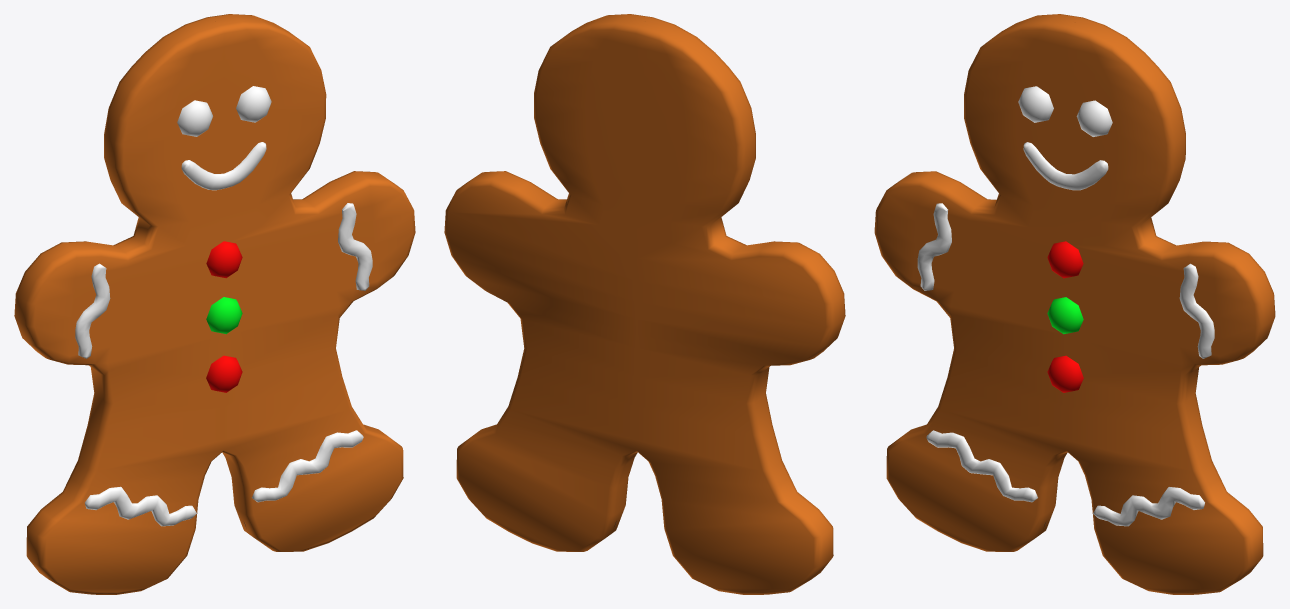
File: gingerbreadman.fbx
3 views of the same model, side by side, from view 1: azimuth 30°, elevation 25°; view 2: azimuth 150°, elevation 25°; view 3: azimuth 330°, elevation 25° (orthographic).
Parts seen in each view (by area): view 1: gingerbread man; view 2: gingerbread man; view 3: gingerbread man.
Boxes of the visible parts, <box> form: gingerbread man: <box>14,14,415,594</box>; gingerbread man: <box>444,14,845,594</box>; gingerbread man: <box>874,14,1275,594</box>.
Bounding box in the file's own units: 193 × 258 × 21.61.
Materials: 1 (1 with a texture image).
